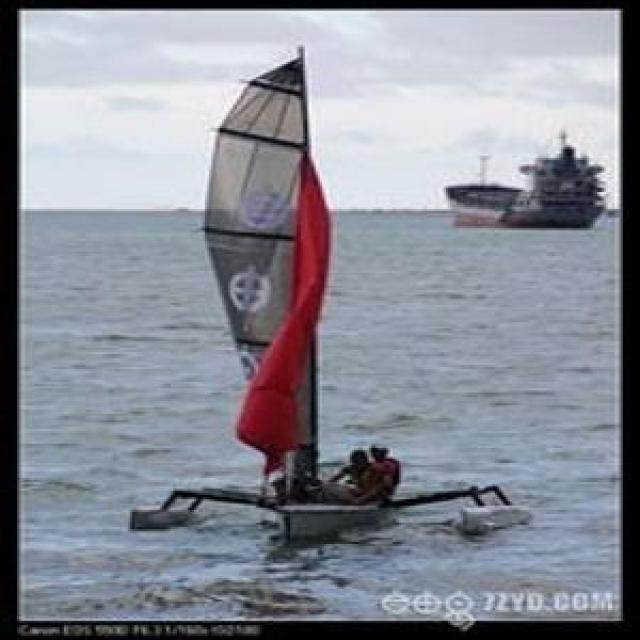cargoship: (444, 106, 622, 222)
sailboat: (158, 52, 492, 556)
